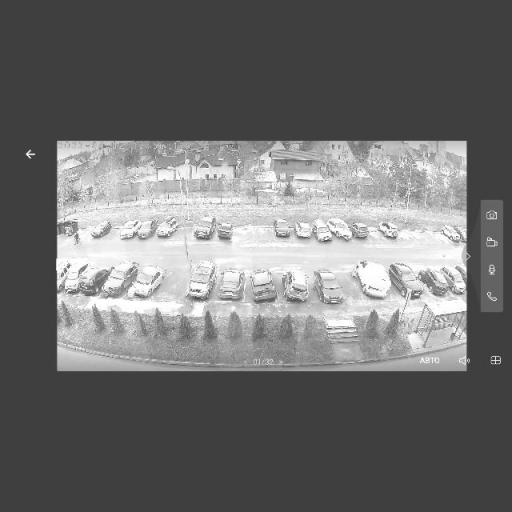busy: (351, 262, 396, 300), (124, 263, 166, 302), (181, 260, 219, 302), (102, 259, 140, 299), (80, 258, 112, 300), (214, 268, 250, 302), (56, 257, 90, 293), (389, 264, 425, 298), (246, 269, 280, 304), (282, 270, 316, 302), (315, 270, 344, 304), (422, 270, 453, 295), (315, 218, 344, 244), (192, 213, 219, 240), (153, 216, 181, 238), (123, 220, 152, 241), (325, 220, 352, 242), (446, 268, 468, 294), (212, 221, 239, 241), (86, 221, 114, 240), (438, 226, 464, 244), (377, 222, 402, 240), (138, 217, 156, 242), (272, 220, 294, 239), (348, 221, 372, 238), (293, 222, 313, 239)
free: (158, 269, 190, 304), (338, 272, 360, 298), (232, 222, 254, 245), (254, 220, 272, 246), (365, 224, 385, 243), (399, 225, 414, 247), (410, 228, 424, 246), (422, 228, 436, 244), (435, 230, 448, 244), (110, 229, 125, 240), (178, 229, 192, 240), (80, 228, 91, 240)
